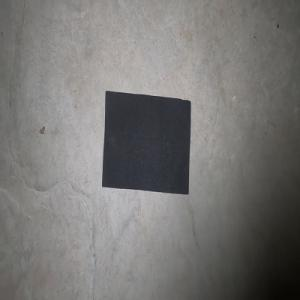PaintChip: (101, 90, 191, 194)
